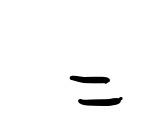eqv: (69, 75, 123, 106)
